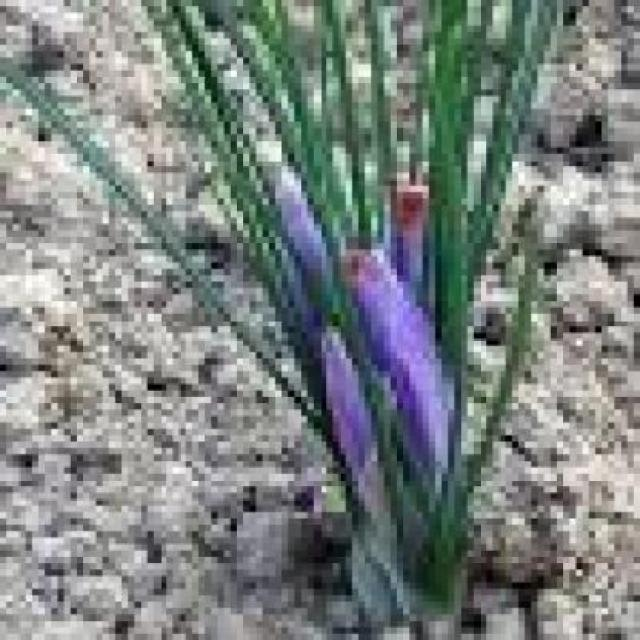saffron closed: (351, 250, 445, 469), (325, 331, 378, 502)
